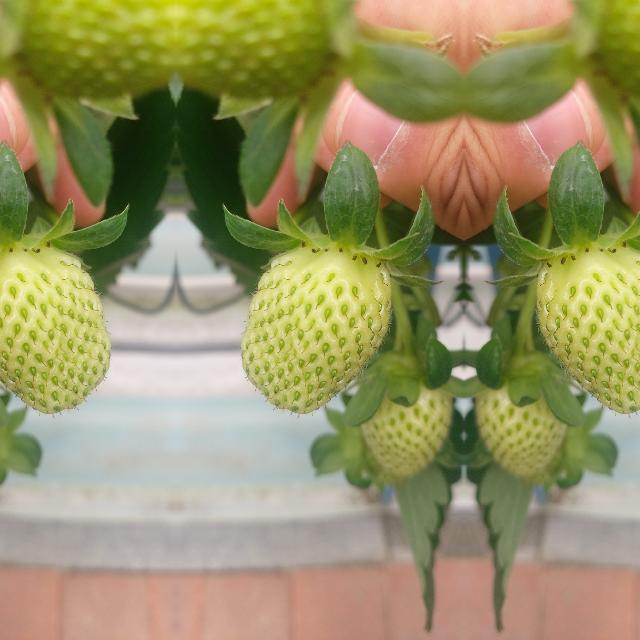Health_25: (240, 243, 390, 413), (0, 243, 110, 413), (536, 243, 640, 413), (358, 355, 454, 477), (472, 355, 568, 477)
